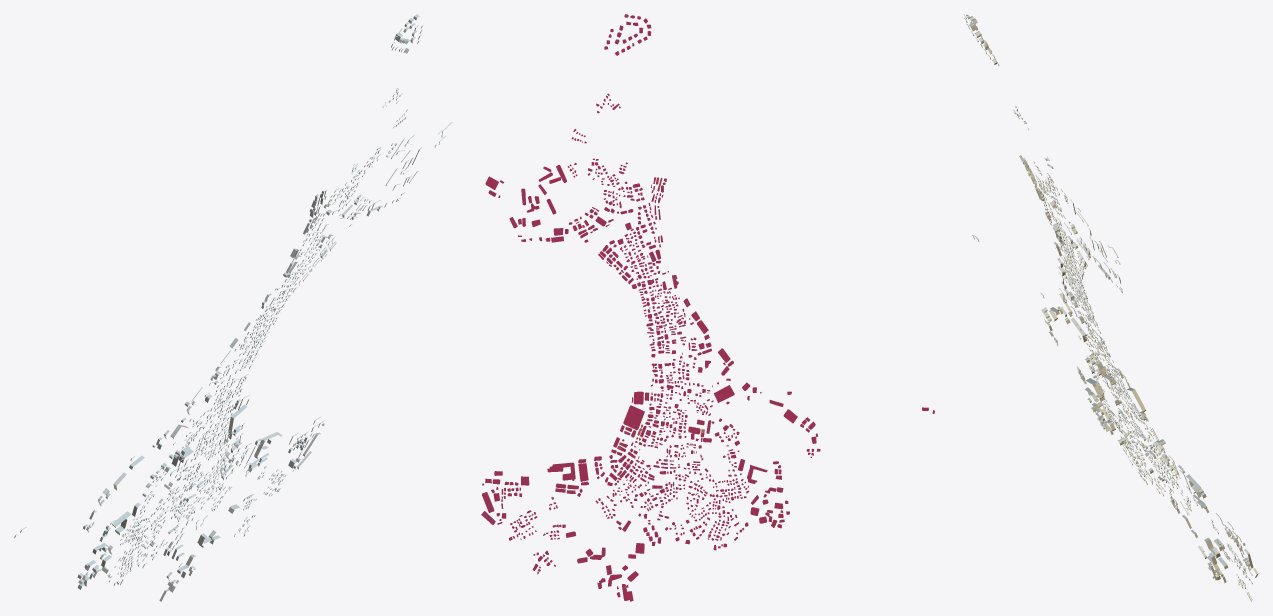
3 views of the same model, side by side, from view 1: azimuth 30°, elevation 25°; view 2: azimuth 150°, elevation 25°; view 3: azimuth 270°, elevation 25° (orthographic). The views are drawn at different scales.
Visible parts, largest first — view 1: geometry_0; view 2: geometry_0; view 3: geometry_0.
Boxes of the visible parts, left/top/right/bottom form: geometry_0: left=14, top=14, right=452, bottom=601; geometry_0: left=481, top=14, right=934, bottom=601; geometry_0: left=963, top=14, right=1258, bottom=601.
Size of the model in its own units: 1465 by 1764 by 760.
